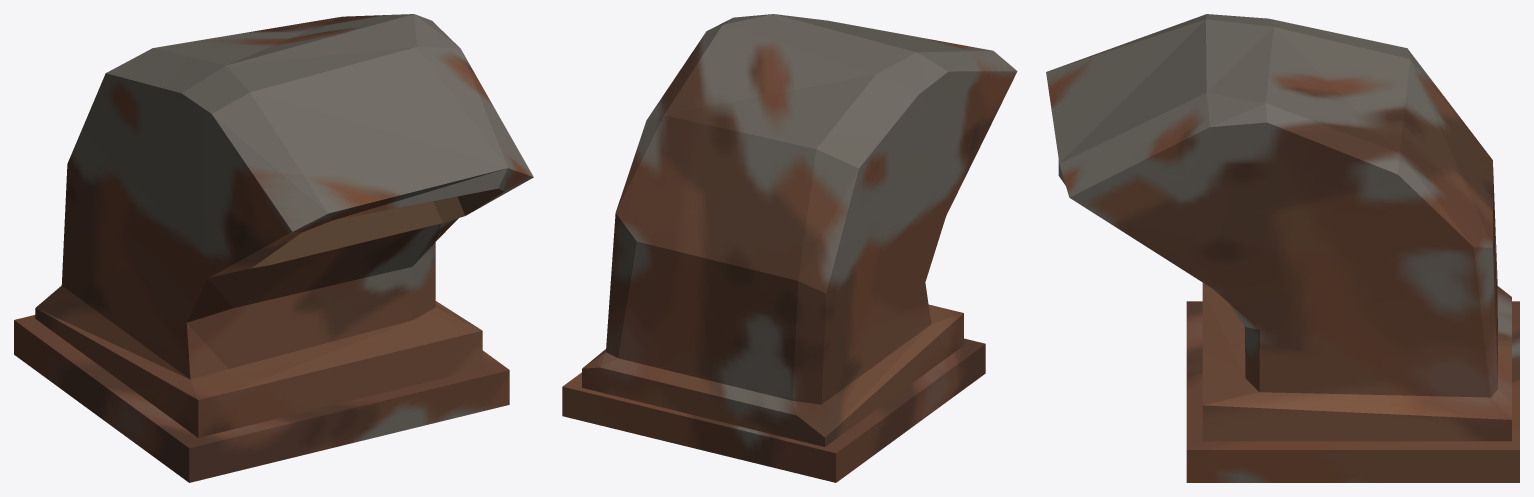
The model's file is SM_Prop_Greeble_Vent_04.obj.
3 views of the same model, side by side, from view 1: azimuth 30°, elevation 25°; view 2: azimuth 150°, elevation 25°; view 3: azimuth 270°, elevation 25° (orthographic). The views are drawn at different scales.
Visible parts, largest first — view 1: SM_Prop_Greeble_Vent_04_0; view 2: SM_Prop_Greeble_Vent_04_0; view 3: SM_Prop_Greeble_Vent_04_0.
Part boxes in pixels (x1=…): SM_Prop_Greeble_Vent_04_0: x1=14, y1=14, x2=533, y2=482; SM_Prop_Greeble_Vent_04_0: x1=562, y1=14, x2=1017, y2=482; SM_Prop_Greeble_Vent_04_0: x1=1046, y1=14, x2=1519, y2=482.
Size of the model in its own units: 0.8256 by 0.9192 by 1.11.
1 material, 1 textured.
